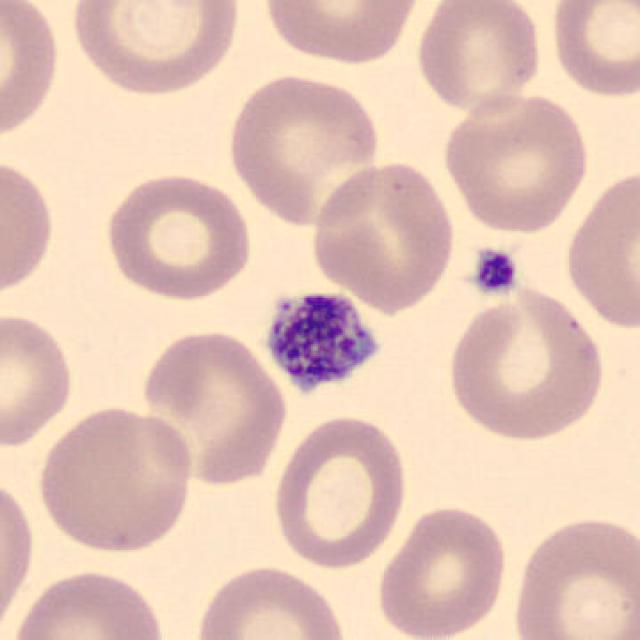Platelets: (260, 284, 388, 402), (467, 245, 521, 300)
RBC: (442, 282, 610, 444), (222, 69, 388, 229), (34, 402, 197, 557), (137, 326, 290, 488), (307, 157, 458, 312), (268, 411, 412, 571), (439, 88, 594, 236), (100, 168, 256, 304), (373, 500, 511, 640), (64, 0, 244, 99), (507, 511, 638, 640), (412, 0, 548, 118), (560, 164, 638, 335), (190, 560, 352, 640), (7, 566, 173, 640), (258, 0, 427, 67), (0, 308, 78, 449), (544, 0, 638, 102), (0, 0, 64, 146), (0, 152, 59, 303), (0, 467, 37, 636)
